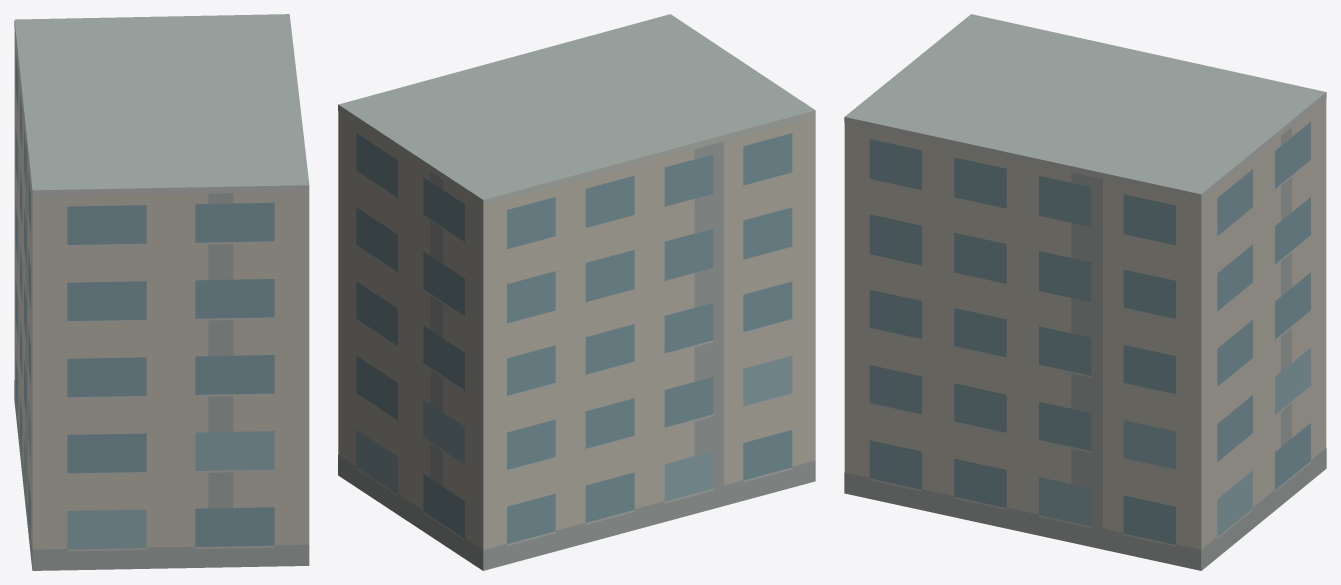
Rendered from survey-upis-32887407.glb.
The picture shows the model from 3 angles, left to right: view 1: azimuth 30°, elevation 25°; view 2: azimuth 150°, elevation 25°; view 3: azimuth 270°, elevation 25°; orthographic projection. The views are drawn at different scales.
Parts seen in each view (by area): view 1: survey-upis-32887407.tmp; view 2: survey-upis-32887407.tmp; view 3: survey-upis-32887407.tmp.
Boxes of the visible parts, <box> form: survey-upis-32887407.tmp: <box>14,14,309,570</box>; survey-upis-32887407.tmp: <box>338,14,815,570</box>; survey-upis-32887407.tmp: <box>844,14,1326,570</box>.
Size of the model in its own units: 14.49 by 14.1 by 16.37.
